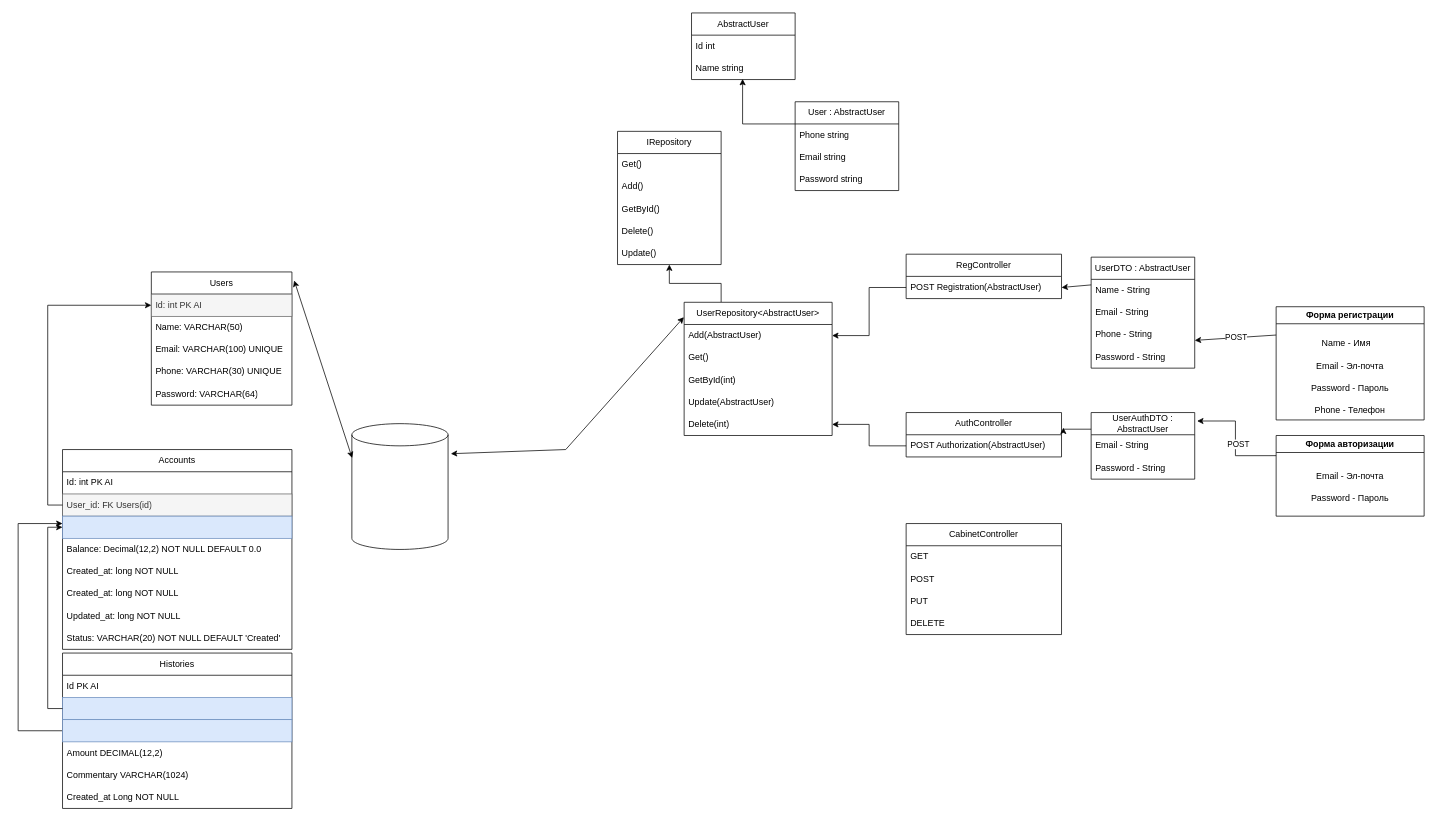
Image size: 1437x821. Some labels were removed from this diagram. Each missing label, with the centre of its shape:
Account_number: VARCHAR(20) NOT NULL UNIQUE: [177,526]
From_Account FK Accounts(Account_number): [177,708]
PostgreSQL: [399,486]
To_Account FK Accounts(Account_number): [177,730]
